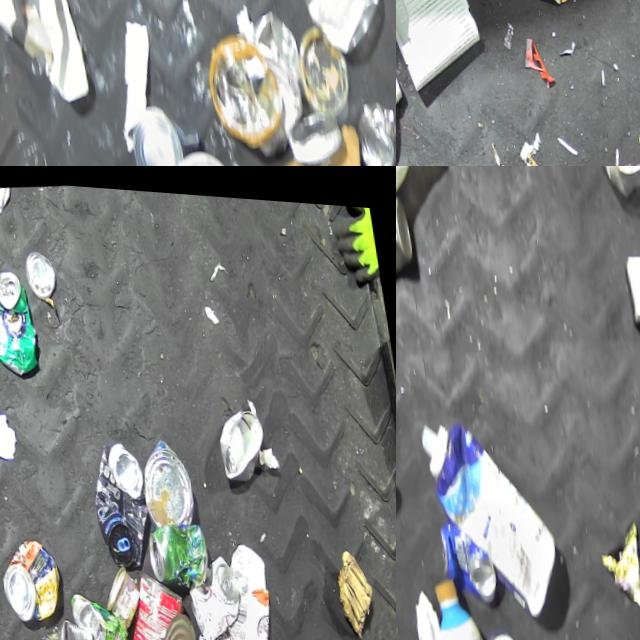can: (82, 433, 154, 565), (110, 562, 193, 640), (178, 544, 240, 640), (132, 429, 195, 523), (0, 531, 61, 622), (432, 516, 495, 604), (139, 512, 206, 586), (120, 95, 187, 166), (210, 394, 268, 476), (0, 262, 39, 375), (279, 99, 342, 163), (346, 89, 396, 166), (63, 583, 125, 640), (95, 560, 140, 625), (26, 609, 102, 640), (139, 605, 204, 640), (396, 187, 417, 287), (22, 244, 57, 297)
milk_jug: (396, 166, 460, 256)
